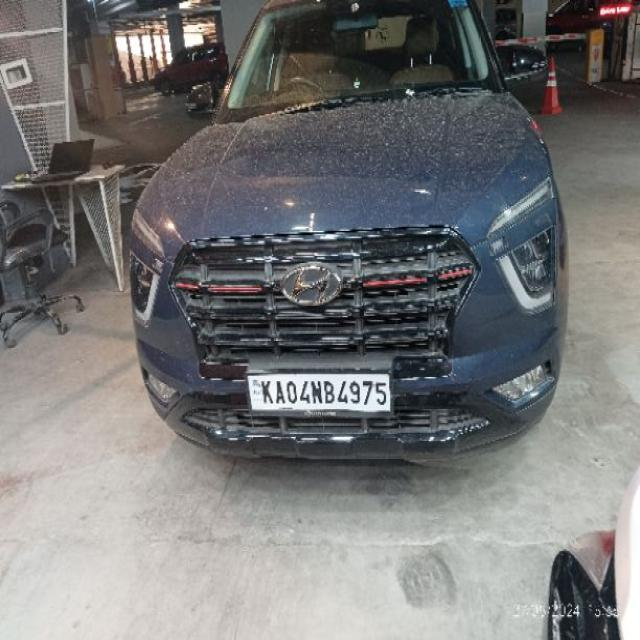license_plate: (245, 369, 392, 417)
